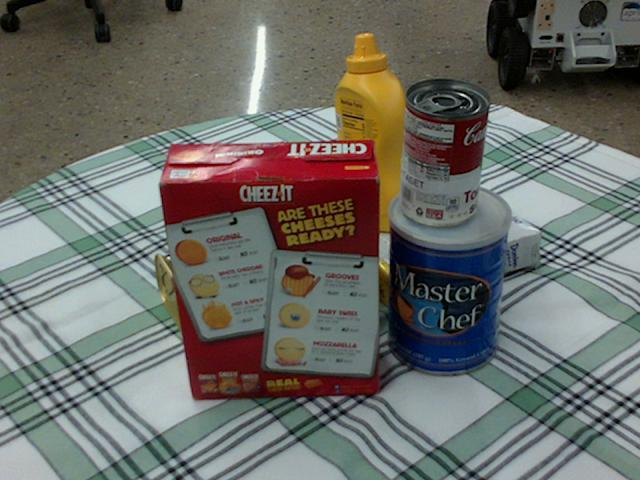cracker_box: (152, 139, 378, 397)
gelatin_box: (315, 178, 416, 250)
master_chef_can: (387, 180, 511, 375)
mug: (258, 211, 358, 328)
mustard_bottle: (334, 34, 415, 231)
potted_meat_can: (155, 238, 273, 343)
sugar_box: (349, 195, 541, 310)
tomato_soup_can: (399, 78, 488, 225)
tuna_fish_can: (168, 208, 261, 286)
